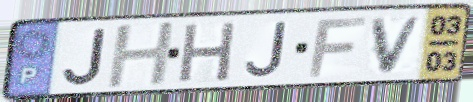F: (306, 15, 370, 79)
H: (104, 19, 179, 91), (175, 19, 240, 85)
J: (60, 27, 109, 88), (242, 20, 289, 80)
V: (369, 14, 428, 75)
